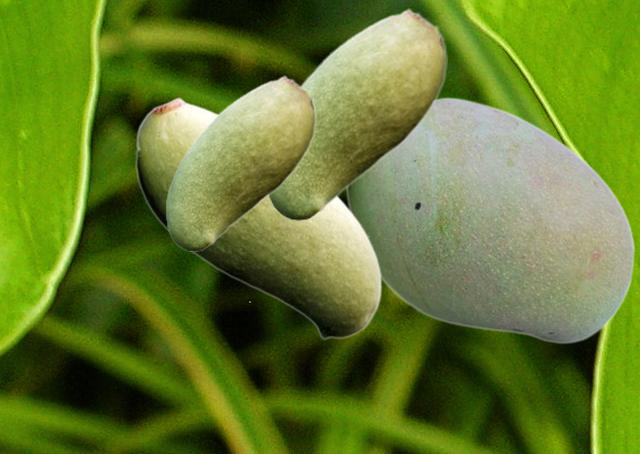green_mango: (345, 96, 634, 343), (135, 96, 381, 339), (266, 8, 446, 219), (165, 75, 315, 250)
